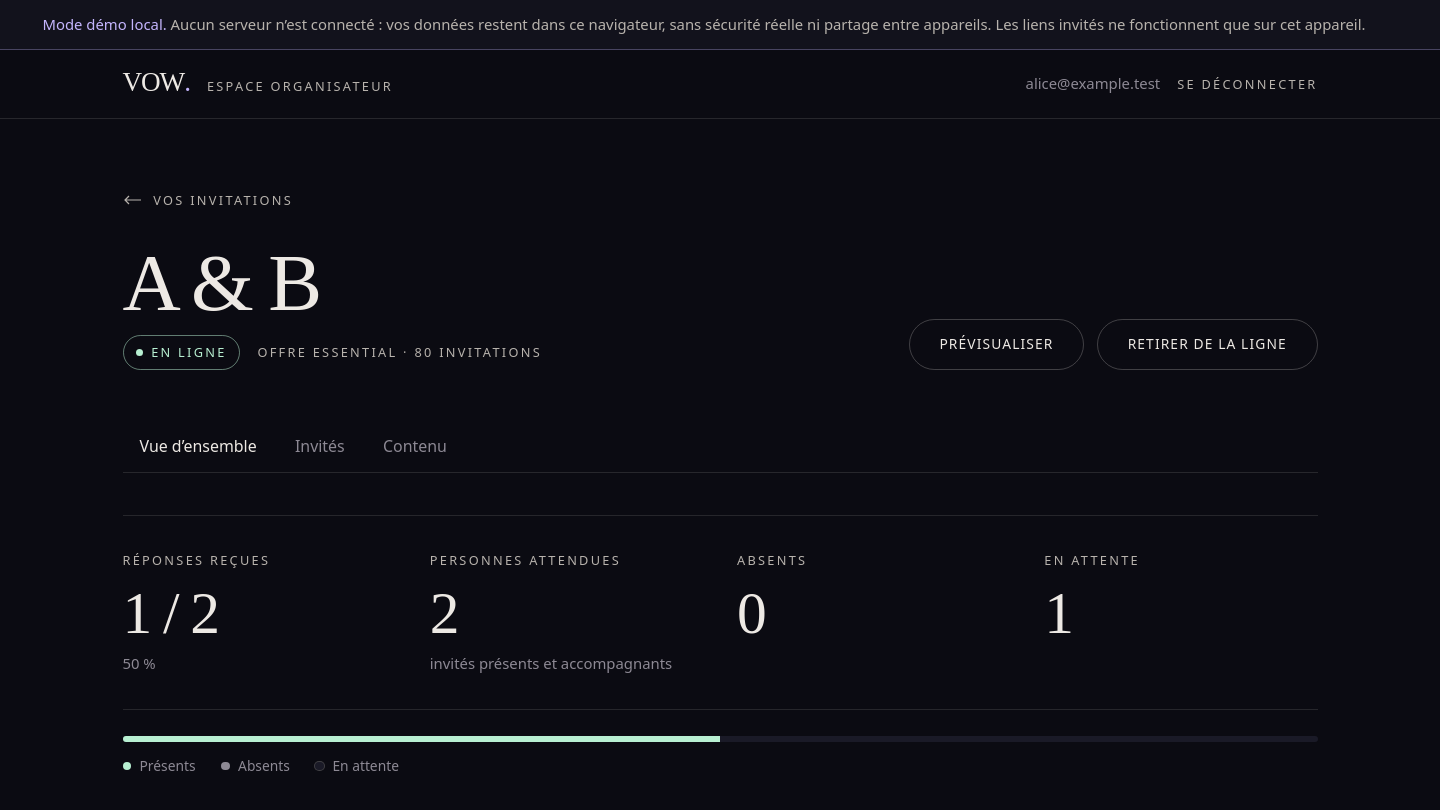
Test: organizer space › shows RSVP statistics, and deleting a guest asks for confirmation
The width and height of the screenshot is (1440, 810).
expect the text "1 / 2" is shown: met, box [122,580,218,646]
expect the text "2" is shown: met, box [430,580,458,646]
Click the link "Invités" at (320, 446), box [295,435,345,457]
(page scrolled)
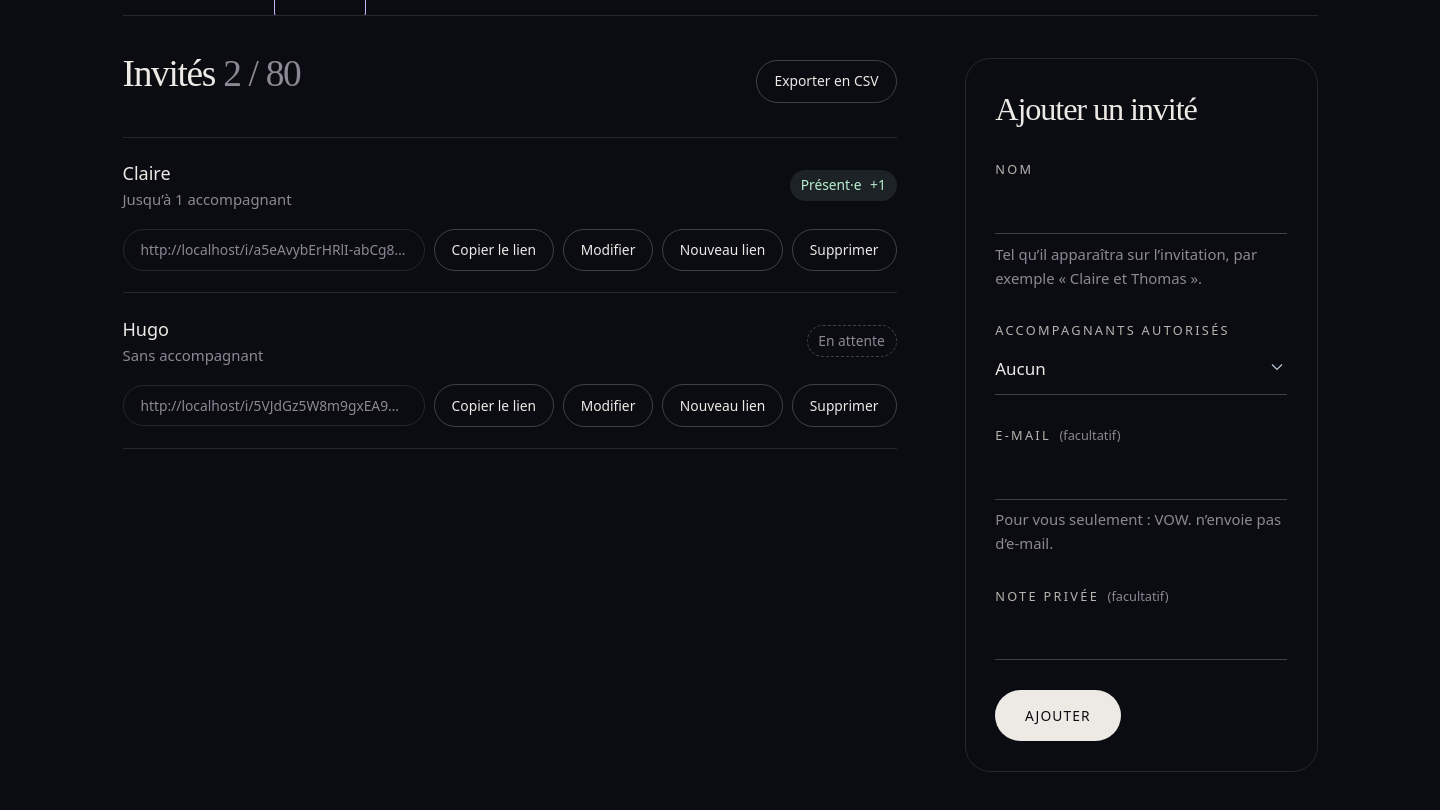
expect the heading "Invités 2 / 80" is shown: met, box [122,58,300,91]
Click the button "Supprimer" below "En attente" at (844, 406), box [792,384,896,427]
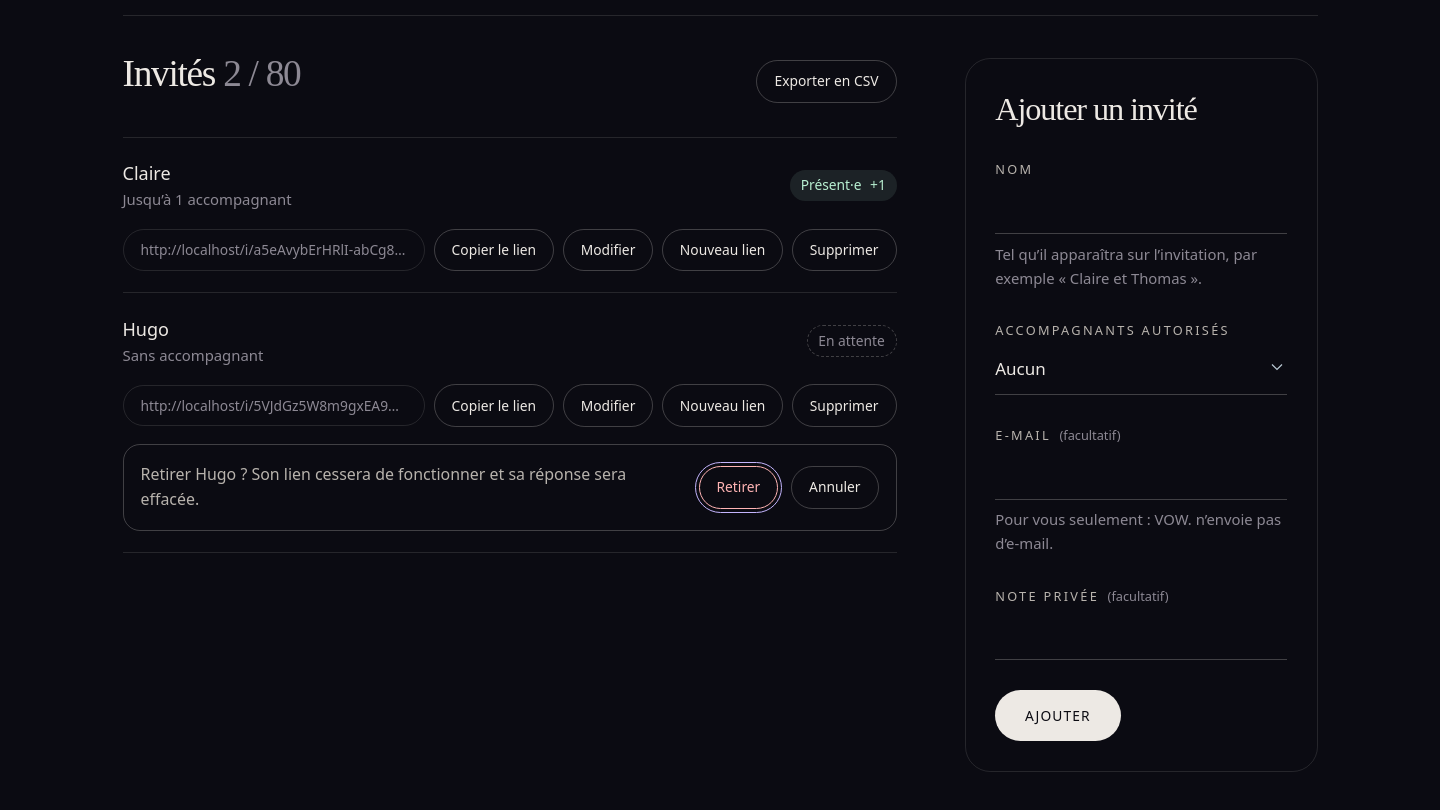
expect the dialog shows "Retirer Hugo ?": met, box [140,463,626,510]
Click the button "Retirer" at (738, 487), box [698,466,778,509]
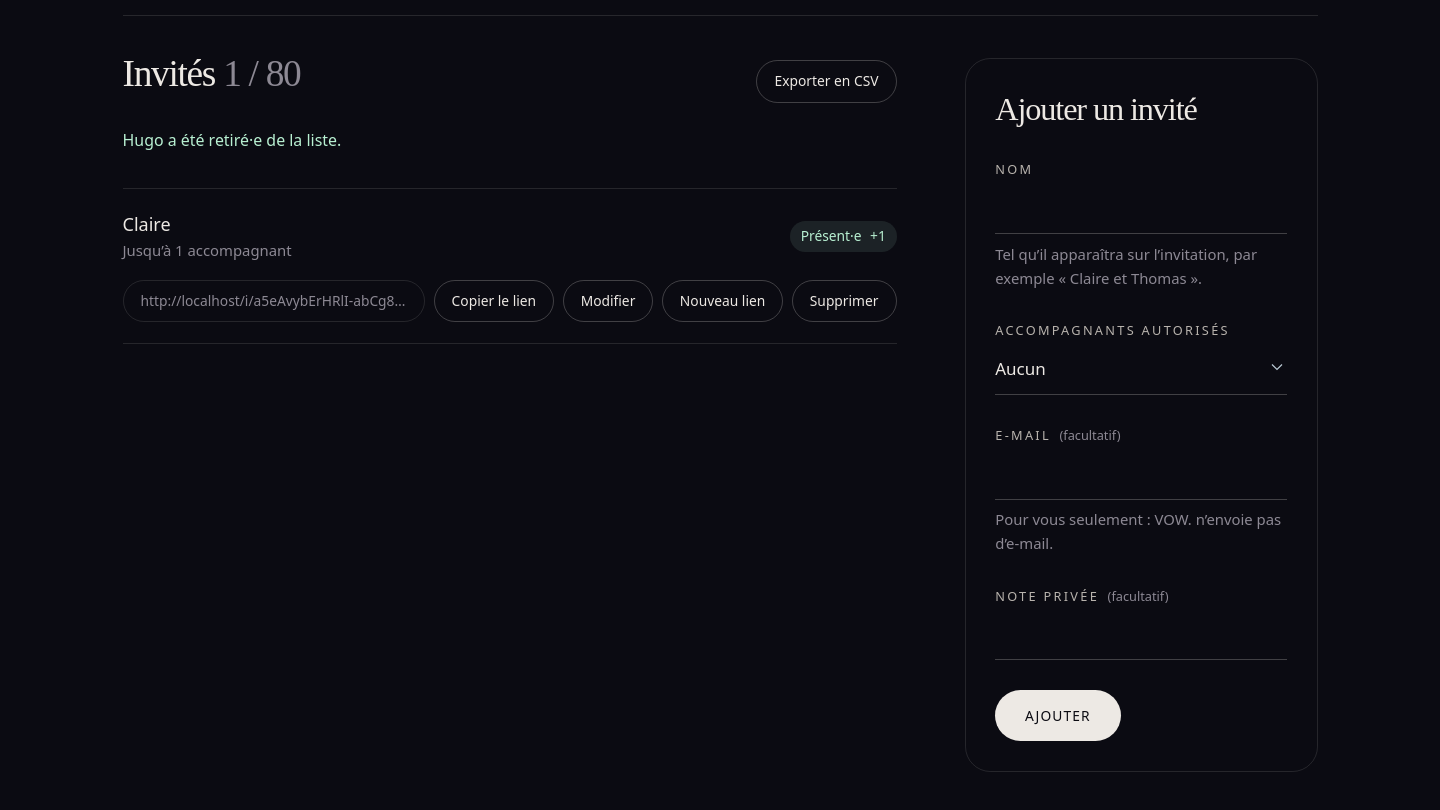
expect the text "Hugo a été retiré·e de la liste." is shown: met, box [122,129,341,151]
